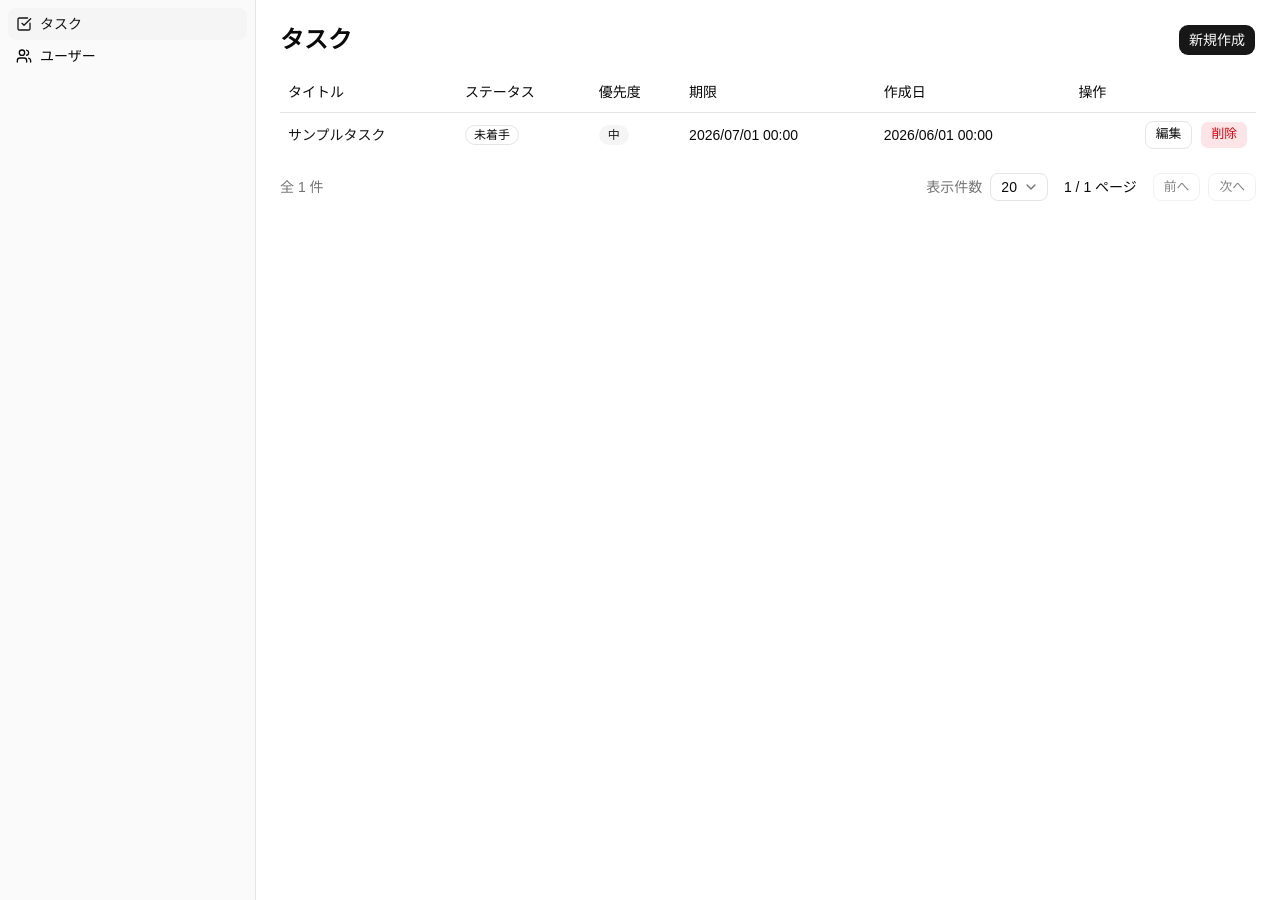
Scenario: TasksPage routing › navigates to the create form via 新規作成
Expected: the table with test id "tasks-table" is shown, [280,72,1256,156]
What coordinates should you click on to do the following:
click the link "新規作成"
I would click on:
 (1217, 40)
Its box is [1178,24,1256,56].
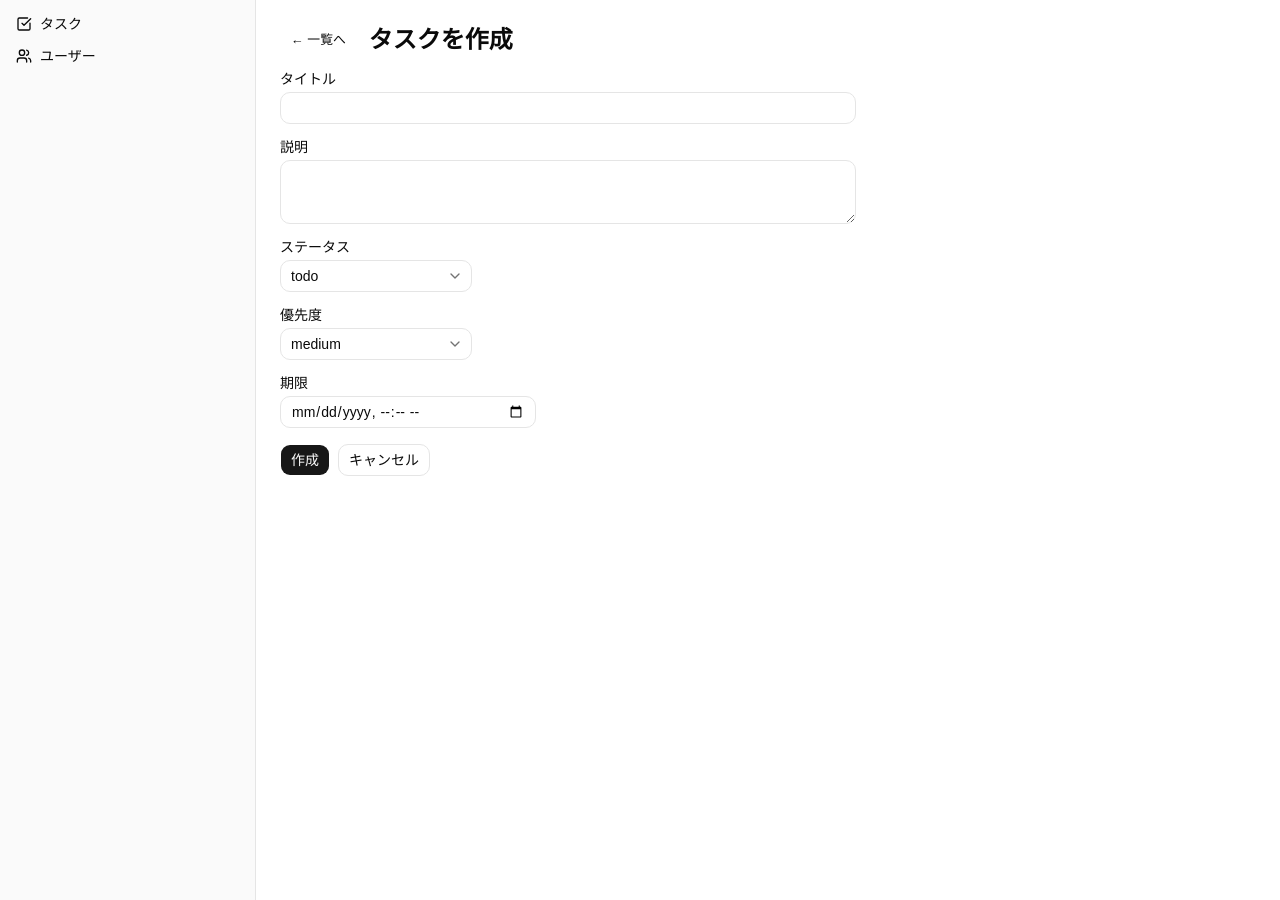
Expected: the form with test id "task-form" is shown, [280,72,856,476]
Expected: the heading "タスクを作成" is shown, [369,24,513,56]
